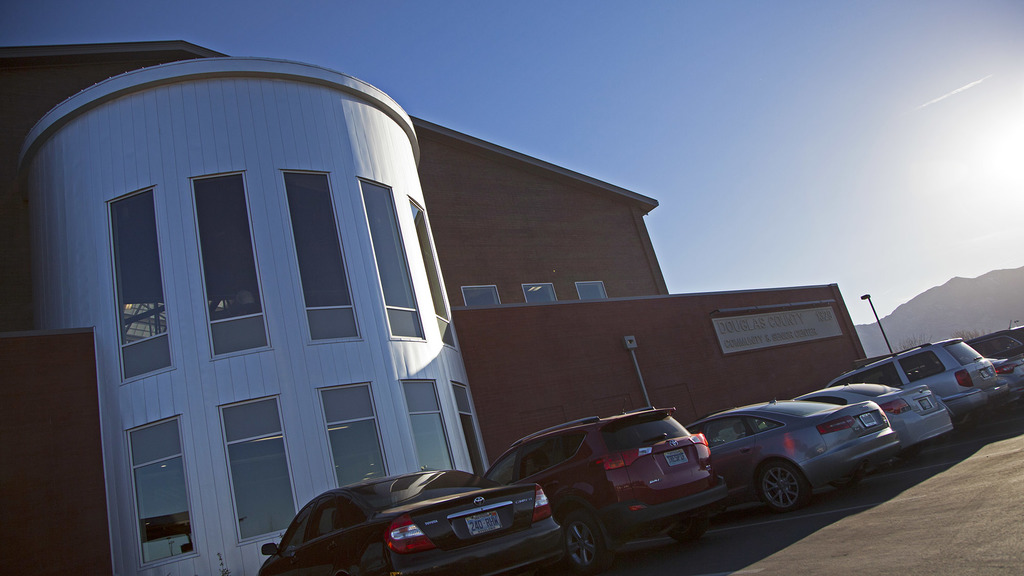Car: (254, 321, 1023, 575)
